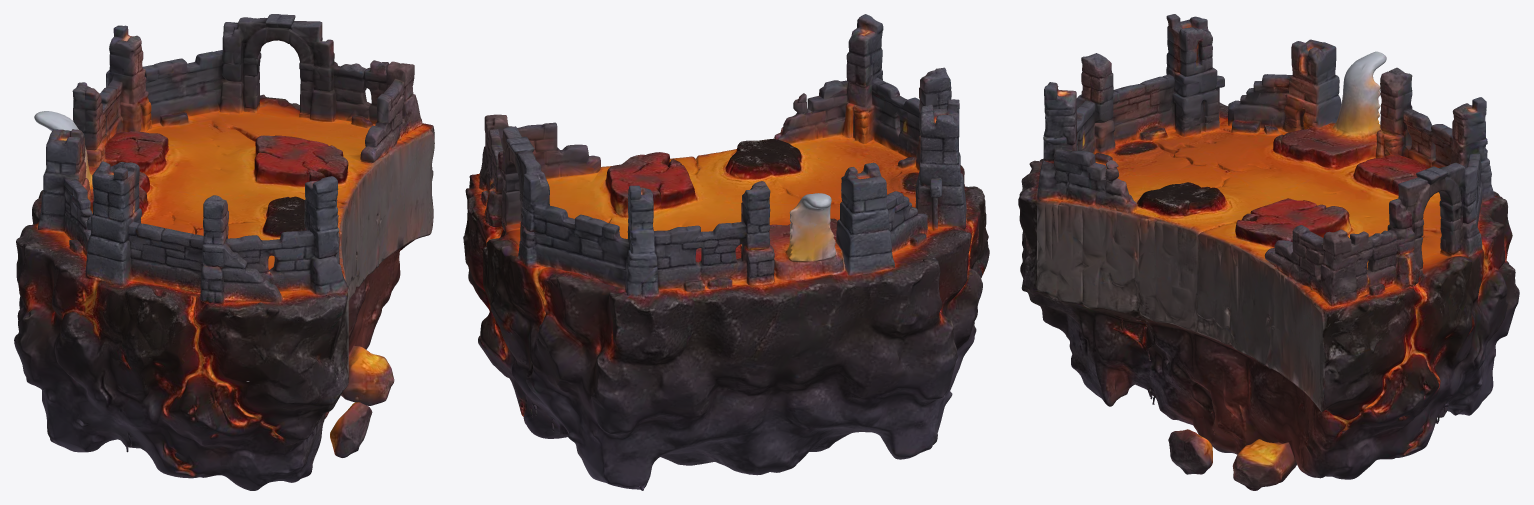
Rendered from fire.glb.
3 views of the same model, side by side, from view 1: azimuth 30°, elevation 25°; view 2: azimuth 150°, elevation 25°; view 3: azimuth 270°, elevation 25° (orthographic). The views are drawn at different scales.
Parts seen in each view (by area): view 1: vizcom_node_0; view 2: vizcom_node_0; view 3: vizcom_node_0.
Part boxes in pixels (<box>): vizcom_node_0: <box>14,14,434,490</box>; vizcom_node_0: <box>463,14,989,490</box>; vizcom_node_0: <box>1018,14,1519,490</box>.
Size of the model in its own units: 3.35 by 2.5 by 3.32.
Materials: 1 (1 with a texture image).
